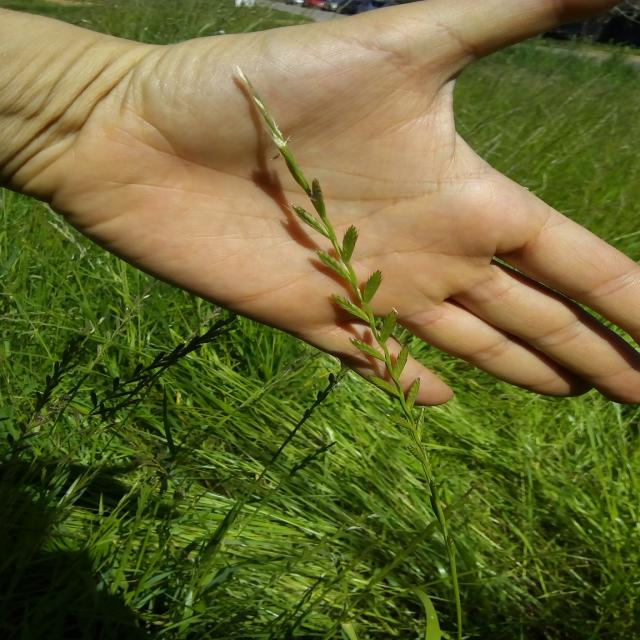Lolium: (219, 77, 458, 425), (109, 306, 238, 418), (11, 334, 90, 450), (286, 437, 346, 482), (308, 358, 348, 421)
